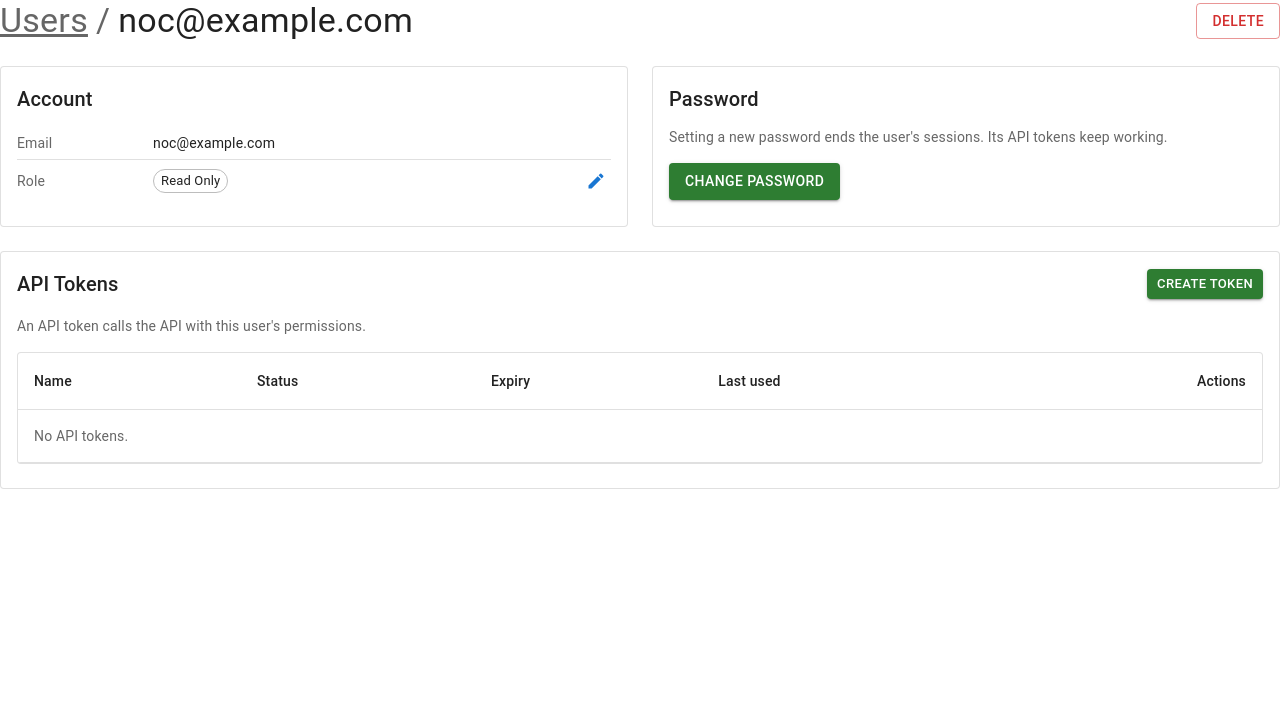
UserDetail › deletes another user after confirmation
The width and height of the screenshot is (1280, 720).
Expected: the text "Read Only" is shown, 161,173 -> 220,188
What coordinates should you click on to do the following:
click the button "Delete"
I would click on:
 (1238, 21)
Its box is 1196,3 -> 1279,39.
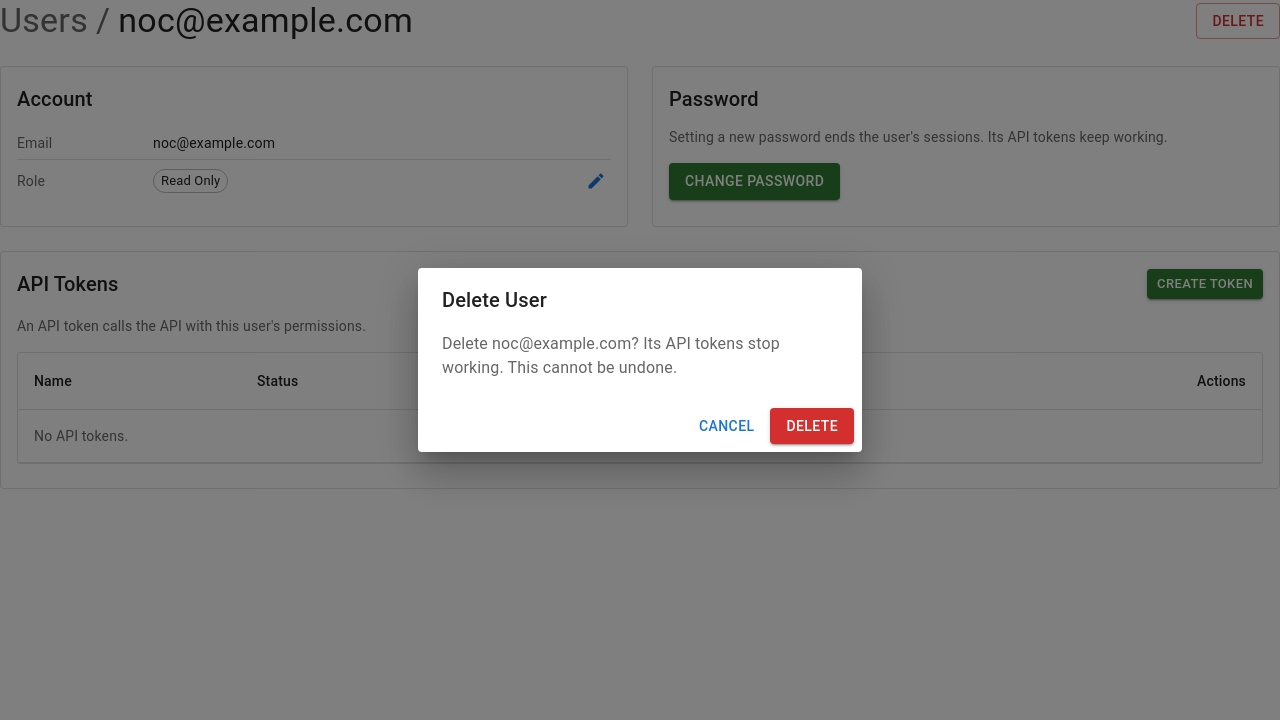
What coordinates should you click on to do the following:
click the button "Delete"
I would click on:
 (812, 426)
Its box is 770,408 -> 854,444.
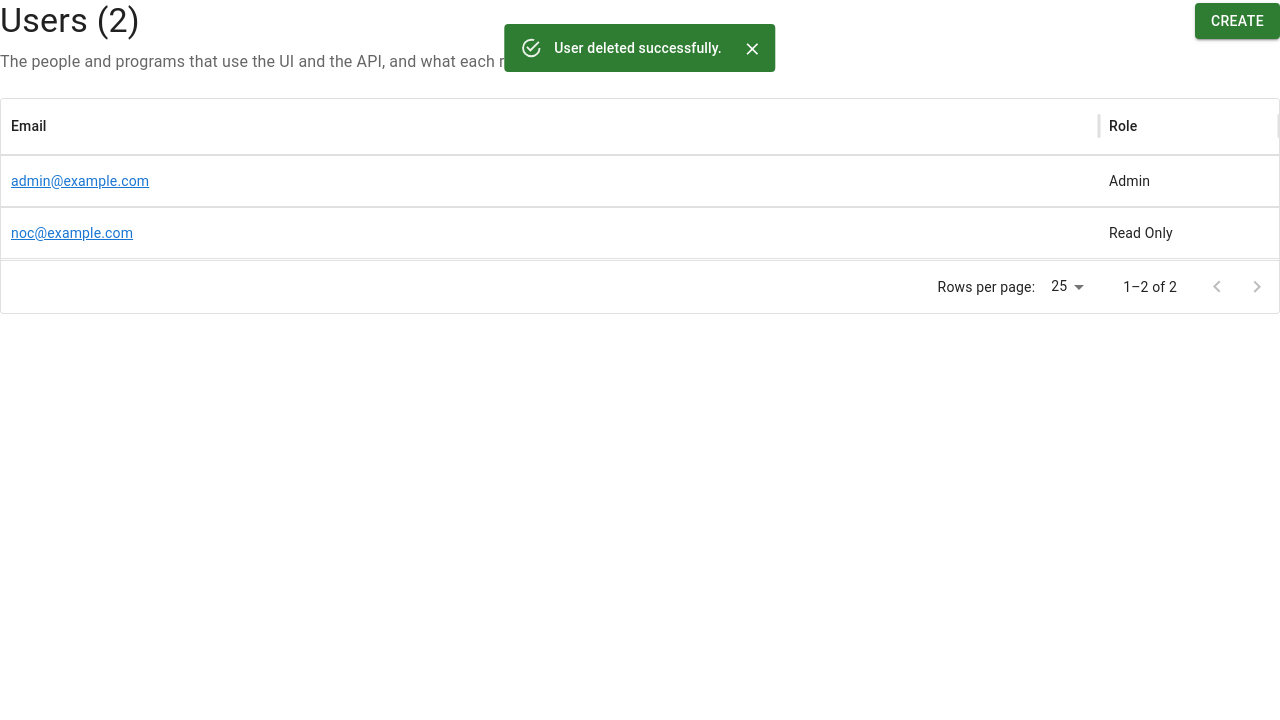
Expected: the heading "Users (2)" is shown, 0,0 -> 140,42
